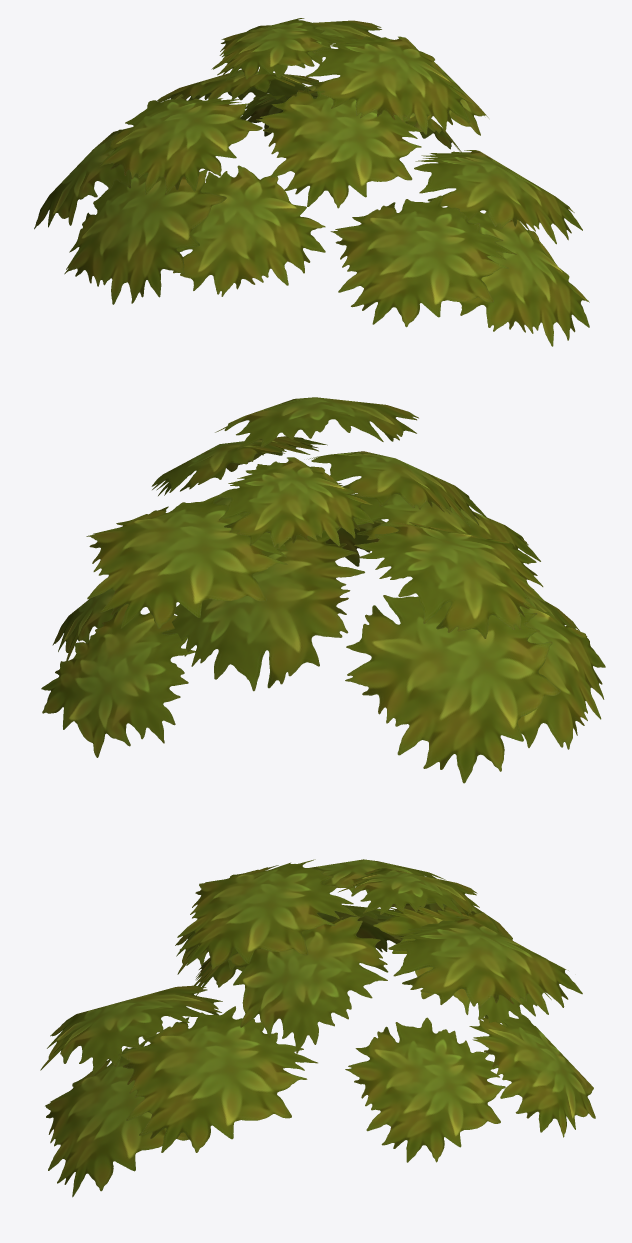
The model's file is tree_05.fbx.
3 views of the same model, one above another, from view 1: azimuth 30°, elevation 25°; view 2: azimuth 150°, elevation 25°; view 3: azimuth 270°, elevation 25° (orthographic). The views are drawn at different scales.
Visible parts, largest first — view 1: tree_05; view 2: tree_05; view 3: tree_05.
Part boxes in pixels (left/top/right/bottom): tree_05: left=34, top=18, right=589, bottom=346; tree_05: left=41, top=397, right=605, bottom=783; tree_05: left=40, top=859, right=595, bottom=1197.
Bounding box in the file's own units: 601 × 308 × 624.
